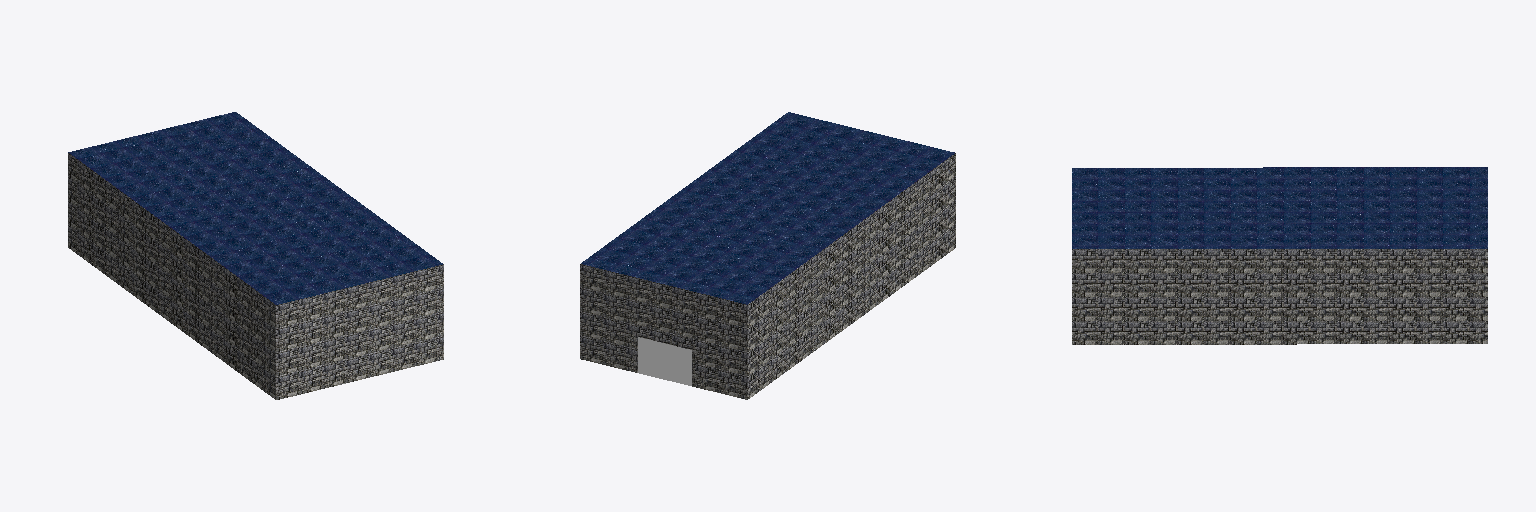
3 views of the same model, side by side, from view 1: azimuth 30°, elevation 25°; view 2: azimuth 150°, elevation 25°; view 3: azimuth 270°, elevation 25° (orthographic).
Visible parts, largest first — view 1: Box001; view 2: Box001; view 3: Box001.
Boxes of the visible parts, box(x1,y1,x2,y2) form: Box001: box(68, 112, 443, 399); Box001: box(580, 112, 955, 399); Box001: box(1072, 167, 1487, 344).
Bounding box in the file's own units: 948 × 517 × 2041.
3 materials, 2 textured.